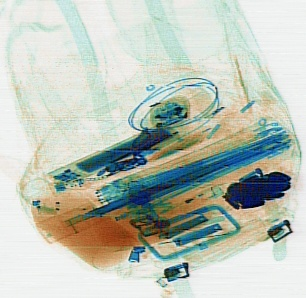lighter: (163, 183, 224, 216)
pressure: (17, 175, 140, 270)
